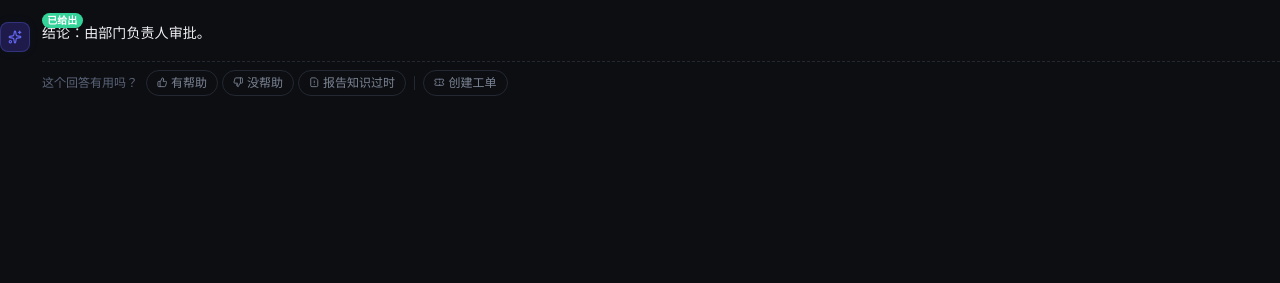
Test: MessageBubble › feeds FeedbackRow from the store session + verdict citations for the ticket form (29-07)
Click the button with test id "feedback-ticket" at x=465, y=82, box x1=423 y1=70 x2=508 y2=96
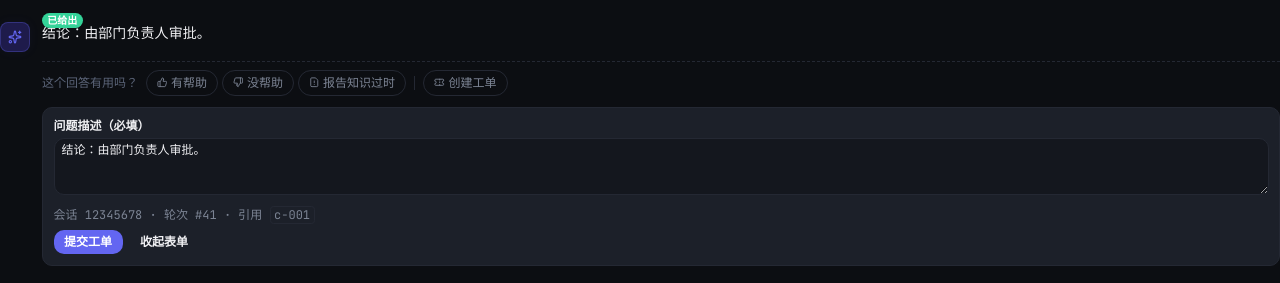
Check: the text box with test id "feedback-ticket-description" holds "结论：由部门负责人审批。", box x1=54 y1=138 x2=1268 y2=194
Check: the element with test id "feedback-ticket-refs" shows "会话 12345678", box x1=54 y1=206 x2=315 y2=224
Check: the element with test id "feedback-ticket-refs" shows "轮次 #41", box x1=54 y1=206 x2=315 y2=224
